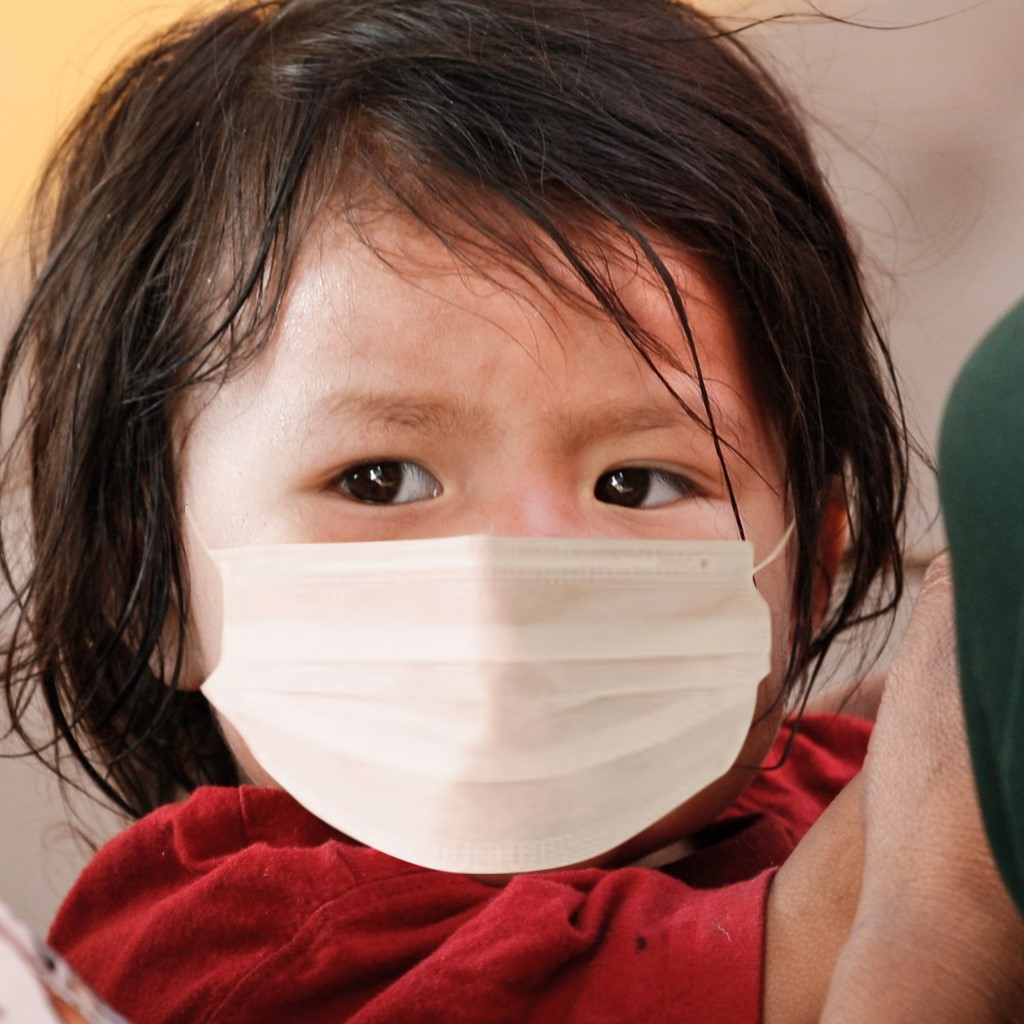con_mascara: (137, 87, 816, 877)
